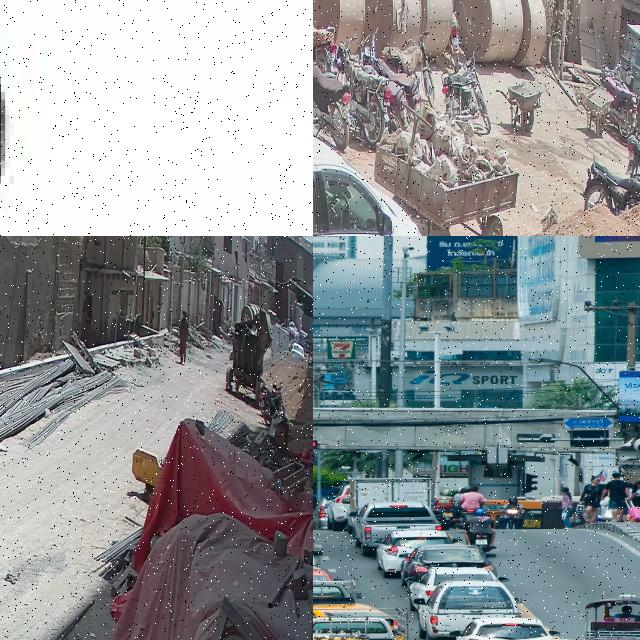bike: (0, 0, 95, 236), (335, 36, 391, 150), (362, 27, 421, 112), (313, 35, 354, 149), (360, 35, 408, 130), (380, 31, 436, 108), (442, 45, 492, 131), (580, 153, 640, 217), (599, 65, 637, 142), (313, 0, 337, 72), (262, 393, 286, 423), (451, 13, 464, 68), (626, 129, 640, 179)
car: (313, 120, 426, 236), (424, 575, 521, 640), (364, 510, 452, 576), (354, 501, 441, 552), (313, 603, 411, 640), (313, 570, 356, 640), (313, 609, 409, 640), (313, 546, 343, 620), (454, 620, 555, 640)
